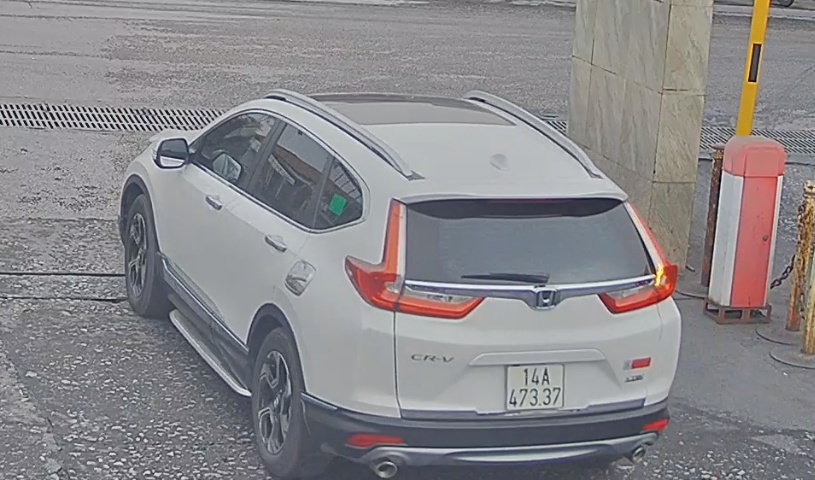vehicle plate: (502, 357, 564, 412)
